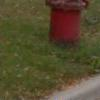Hydrant: (38, 1, 91, 50)
